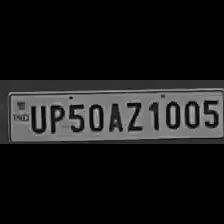0: (85, 100, 105, 132), (162, 97, 182, 129), (180, 96, 200, 128)
1: (144, 97, 160, 130)
5: (66, 99, 86, 133), (200, 96, 220, 128)
A: (105, 98, 123, 132)
P: (44, 102, 64, 134)
U: (26, 101, 46, 133)
Z: (122, 98, 144, 132)
